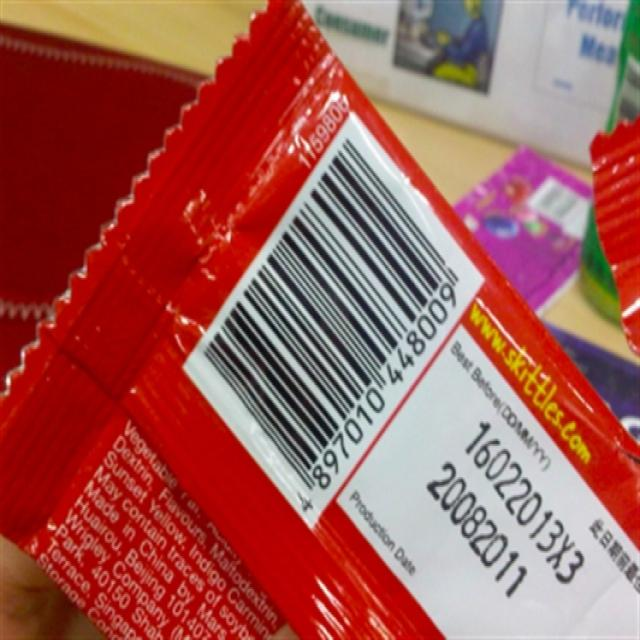Codigo_barras: (184, 108, 488, 535)
